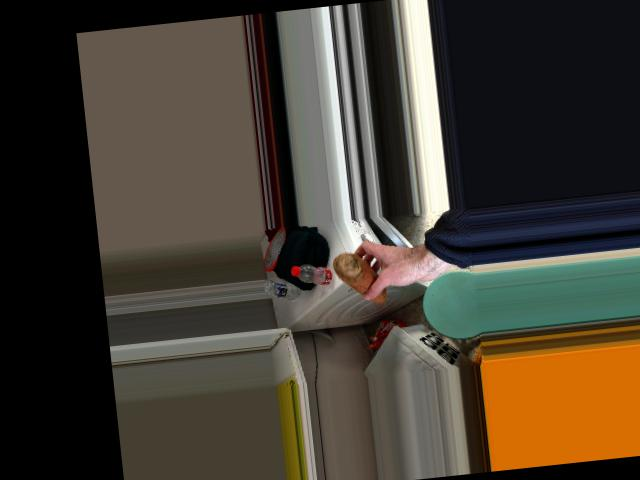sweet_potato: (332, 244, 387, 312)
